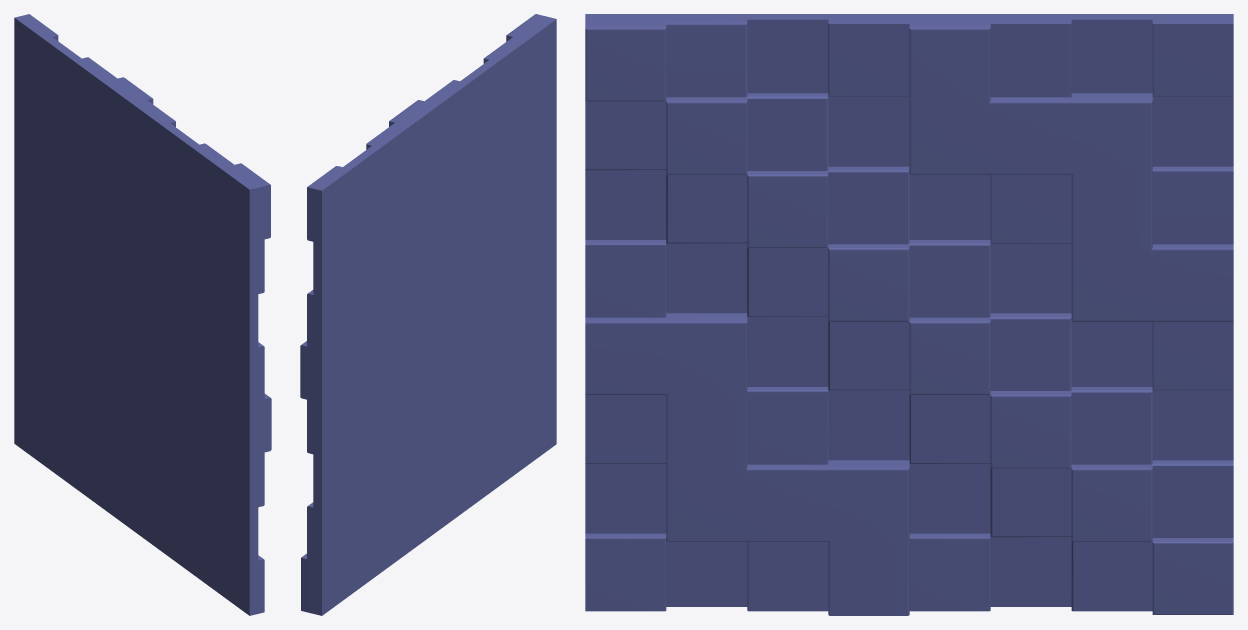
The model's file is Tile.fbx.
The picture shows the model from 3 angles, left to right: view 1: azimuth 30°, elevation 25°; view 2: azimuth 150°, elevation 25°; view 3: azimuth 270°, elevation 25°; orthographic projection. The views are drawn at different scales.
Visible parts, largest first — view 1: pCube7; view 2: pCube7; view 3: pCube7.
Boxes of the visible parts, box(x1,y1,x2,y2) form: pCube7: box(14, 14, 271, 615); pCube7: box(300, 14, 556, 615); pCube7: box(585, 14, 1233, 615).
Size of the model in its own units: 0.0443 by 0.825 by 0.8254.
